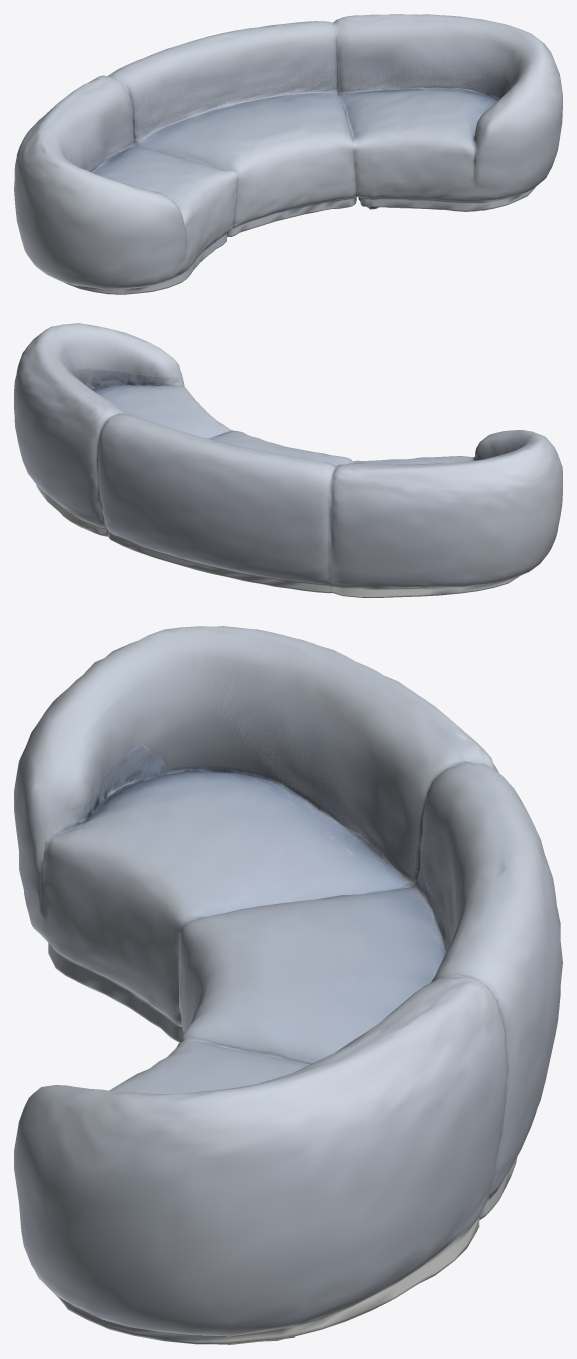
Rendered from white_curved_elegance_sofa_0127183140_texture.glb.
The picture shows the model from 3 angles, top to bottom: view 1: azimuth 30°, elevation 25°; view 2: azimuth 150°, elevation 25°; view 3: azimuth 270°, elevation 25°; orthographic projection. The views are drawn at different scales.
Visible parts, largest first — view 1: Mesh_0; view 2: Mesh_0; view 3: Mesh_0.
Boxes of the visible parts, x1=… form: Mesh_0: x1=14, y1=14, x2=562, y2=294; Mesh_0: x1=14, y1=323, x2=562, y2=597; Mesh_0: x1=14, y1=626, x2=562, y2=1344.
Size of the model in its own units: 3.33 by 0.8128 by 1.52.
Materials: 1 (1 with a texture image).
